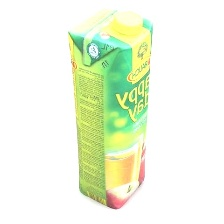carton: (66, 3, 155, 211)
